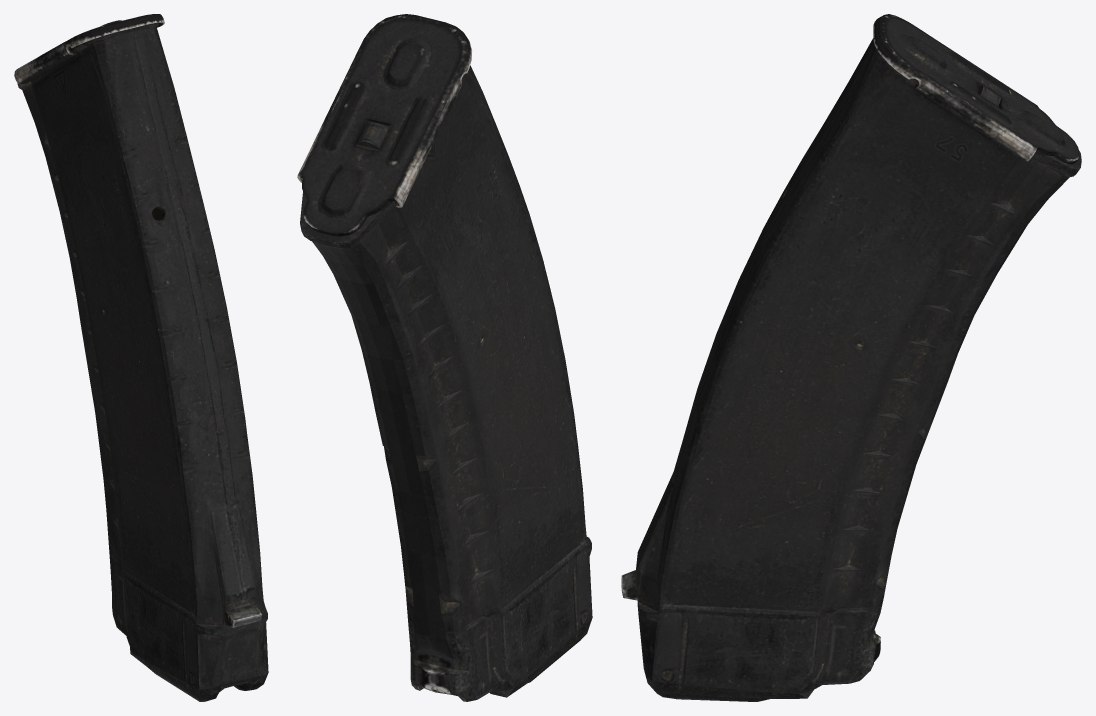
3 renders of one model, left to right at view 1: azimuth 30°, elevation 25°; view 2: azimuth 150°, elevation 25°; view 3: azimuth 270°, elevation 25°, orthographic. The views are drawn at different scales.
Parts seen in each view (by area): view 1: TW_55d480c04bdc2d1d4e8b456a_PZ_Import; view 2: TW_55d480c04bdc2d1d4e8b456a_PZ_Import; view 3: TW_55d480c04bdc2d1d4e8b456a_PZ_Import.
Boxes of the visible parts, box(x1,y1,x2,y2) form: TW_55d480c04bdc2d1d4e8b456a_PZ_Import: box(14, 14, 268, 701); TW_55d480c04bdc2d1d4e8b456a_PZ_Import: box(297, 14, 592, 701); TW_55d480c04bdc2d1d4e8b456a_PZ_Import: box(621, 14, 1081, 701).
Bounding box in the file's own units: 0.0182 × 0.0749 × 0.1188.
1 material, 1 textured.
